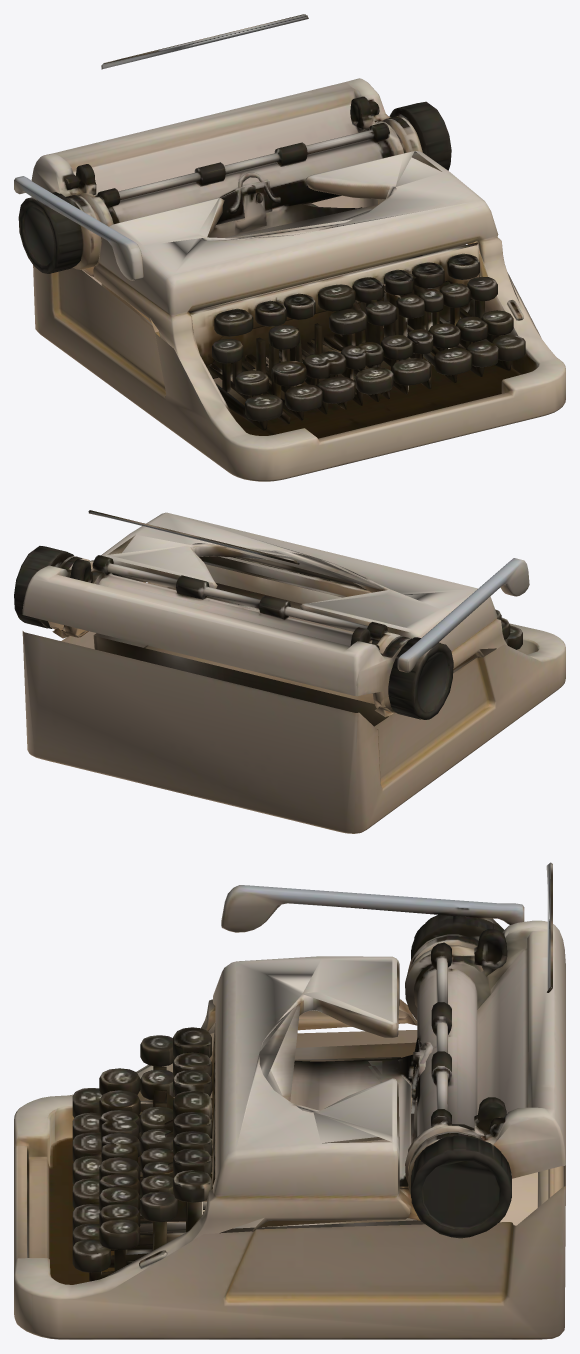
The model's file is a_vintage_typewriter_748ddda3_v3.glb.
3 views of the same model, one above another, from view 1: azimuth 30°, elevation 25°; view 2: azimuth 150°, elevation 25°; view 3: azimuth 270°, elevation 25° (orthographic). The views are drawn at different scales.
Visible parts, largest first — view 1: material; view 2: material; view 3: material.
Boxes of the visible parts, bbox=[...] form: material: bbox=[14, 14, 565, 481]; material: bbox=[14, 510, 565, 833]; material: bbox=[14, 862, 565, 1339].
Bounding box in the file's own units: 1.9 × 1.2 × 1.84.
1 material, 1 textured.
